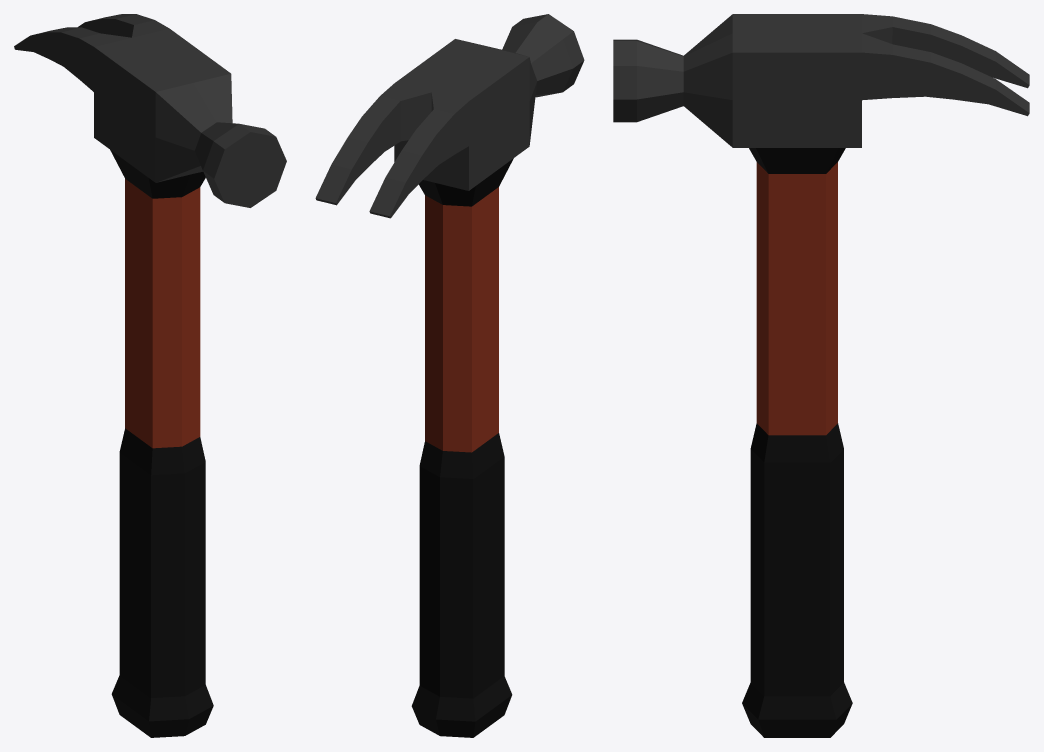
Rendered from Hammer.glb.
3 renders of one model, left to right at view 1: azimuth 30°, elevation 25°; view 2: azimuth 150°, elevation 25°; view 3: azimuth 270°, elevation 25°, orthographic. The views are drawn at different scales.
Parts seen in each view (by area): view 1: Hammer; view 2: Hammer; view 3: Hammer.
Boxes of the visible parts, x1,y1,x2,y2 form: Hammer: [14, 14, 286, 737]; Hammer: [315, 14, 584, 737]; Hammer: [613, 14, 1029, 737].
Size of the model in its own units: 0.044 by 0.3673 by 0.2007.
